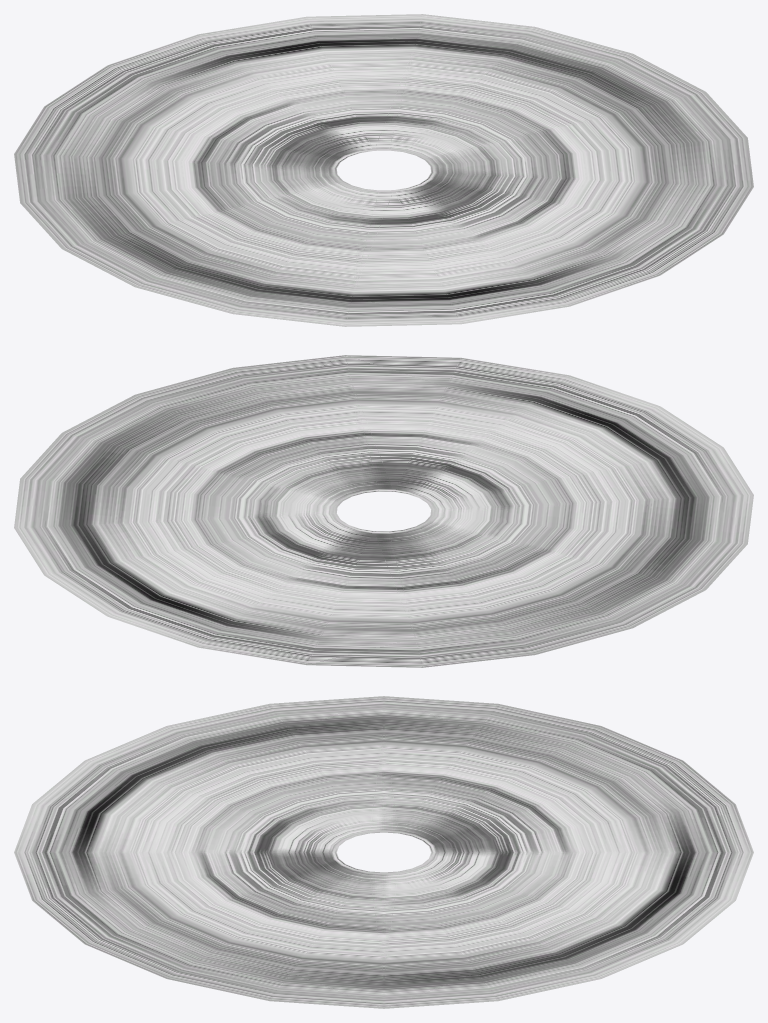
Rendered from RasenShuriken_Circle.fbx.
The picture shows the model from 3 angles, top to bottom: view 1: azimuth 30°, elevation 25°; view 2: azimuth 150°, elevation 25°; view 3: azimuth 270°, elevation 25°; orthographic projection.
Visible parts, largest first — view 1: SM_WEP_Eff_TrueRasenShuriken_03.mo; view 2: SM_WEP_Eff_TrueRasenShuriken_03.mo; view 3: SM_WEP_Eff_TrueRasenShuriken_03.mo.
Boxes of the visible parts, left/top/right/bottom form: SM_WEP_Eff_TrueRasenShuriken_03.mo: left=14, top=14, right=753, bottom=326; SM_WEP_Eff_TrueRasenShuriken_03.mo: left=14, top=355, right=753, bottom=667; SM_WEP_Eff_TrueRasenShuriken_03.mo: left=14, top=696, right=753, bottom=1008.
Bounding box in the file's own units: 140 × 2.28e-05 × 140.
